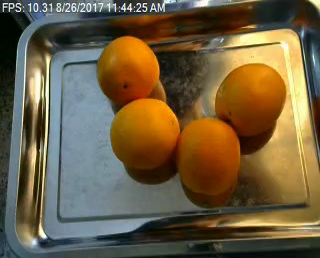Orange: (215, 62, 287, 135), (176, 116, 241, 196), (111, 99, 181, 170), (96, 36, 159, 102)
